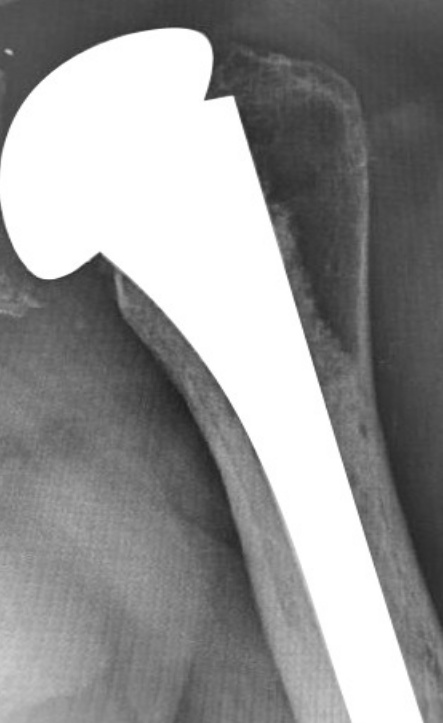Shoulder - Anotomyhead - Stryker: (1, 16, 269, 321)
Shoulder - Anotomytail - Stryker: (84, 76, 369, 510)
